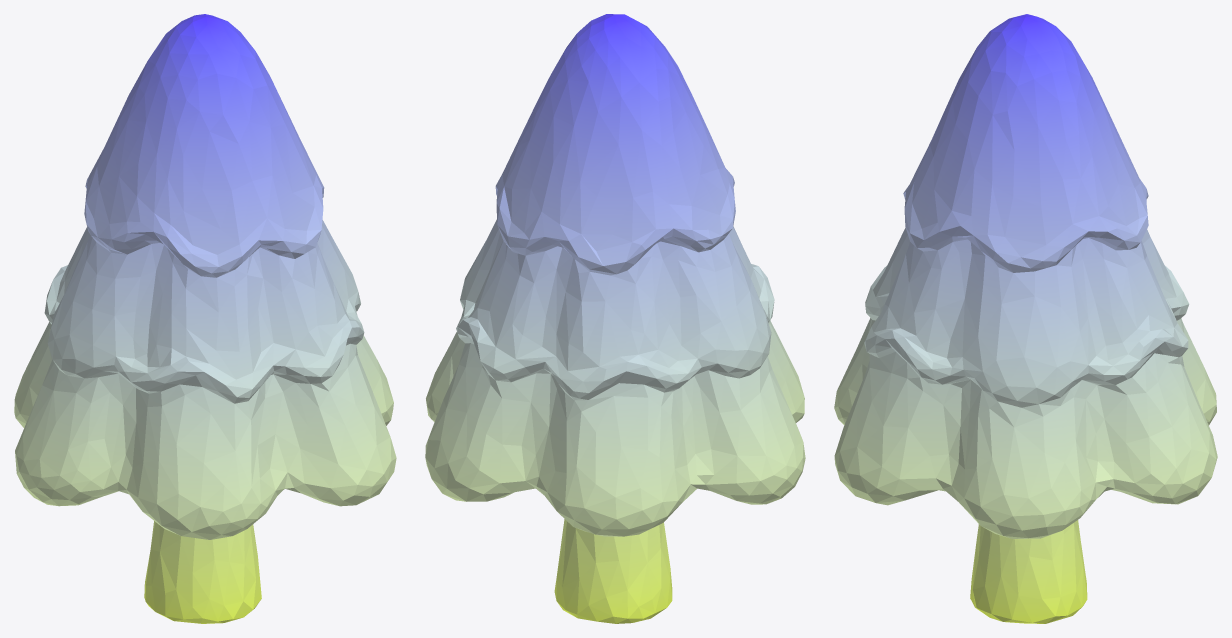
File: 80_cyb_laser_gradient_fish_scales_2901_2026_10_03_7f64e3.glb
The picture shows the model from 3 angles, left to right: view 1: azimuth 30°, elevation 25°; view 2: azimuth 150°, elevation 25°; view 3: azimuth 270°, elevation 25°; orthographic projection.
Visible parts, largest first — view 1: geometry_0; view 2: geometry_0; view 3: geometry_0.
Part boxes in pixels (x1=…): geometry_0: x1=14, y1=14, x2=396, y2=623; geometry_0: x1=425, y1=14, x2=805, y2=623; geometry_0: x1=834, y1=14, x2=1217, y2=623.
Bounding box in the file's own units: 0.6157 × 0.9718 × 0.5749.
